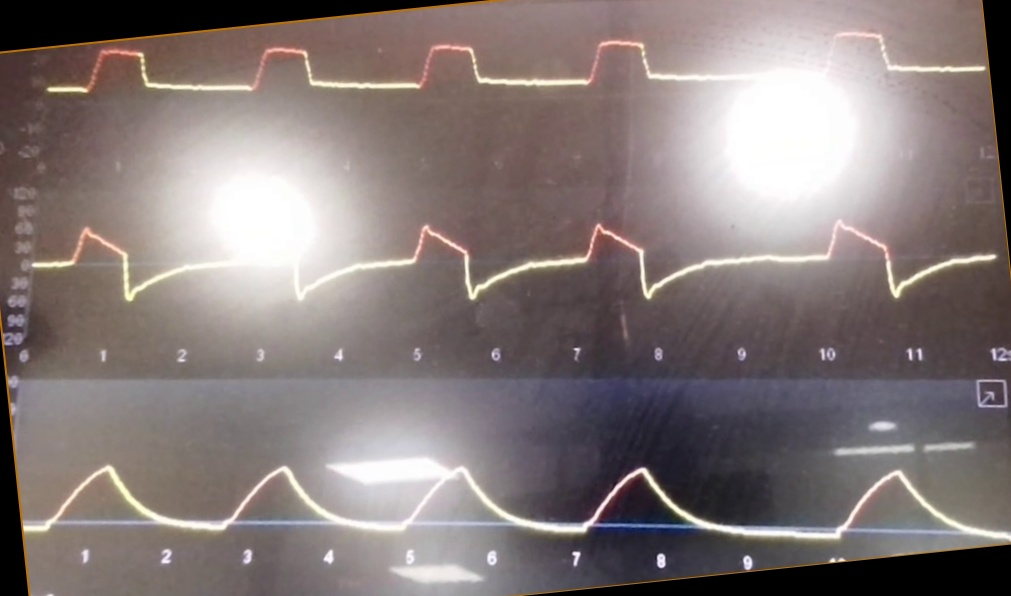Normal Flow: (33, 179, 995, 343)
Normal Volume: (25, 426, 1011, 543)
